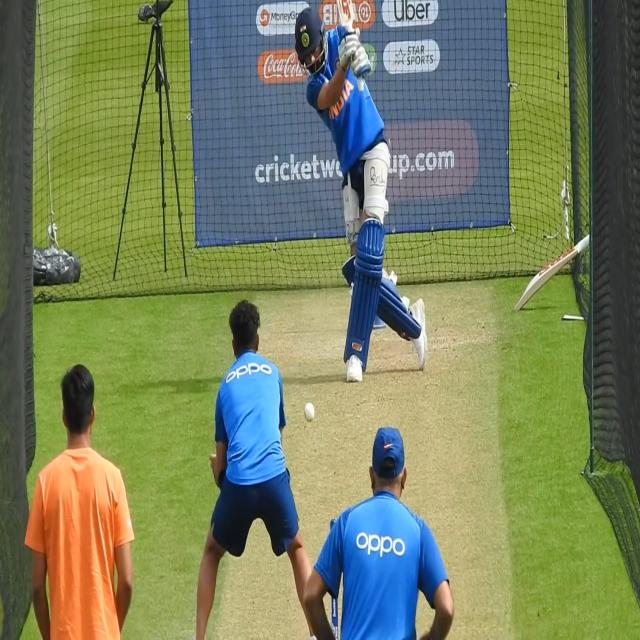Cricket ball: (302, 398, 317, 426)
